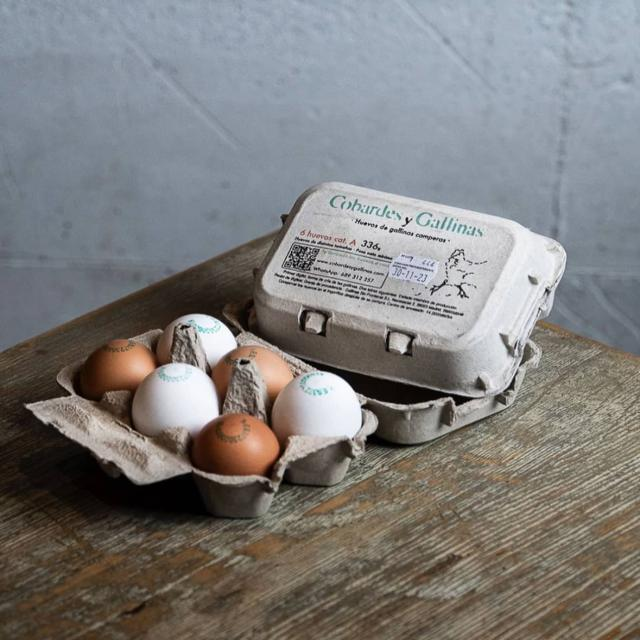huevos: (90, 290, 370, 483)
